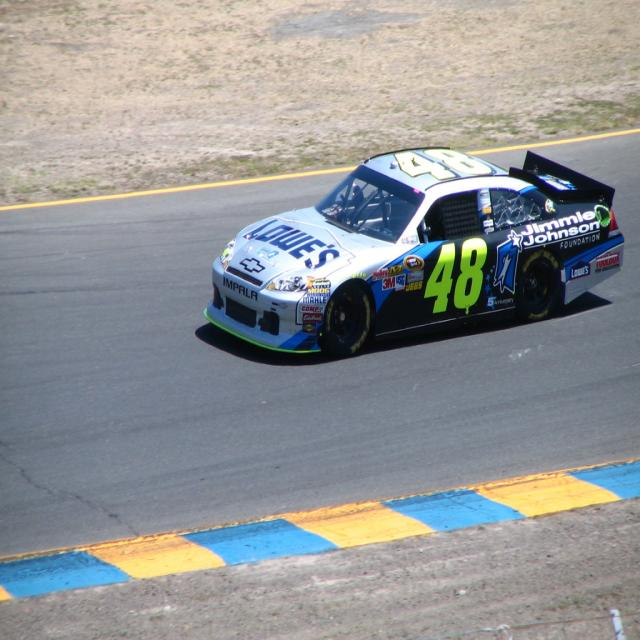car: (203, 141, 627, 361)
